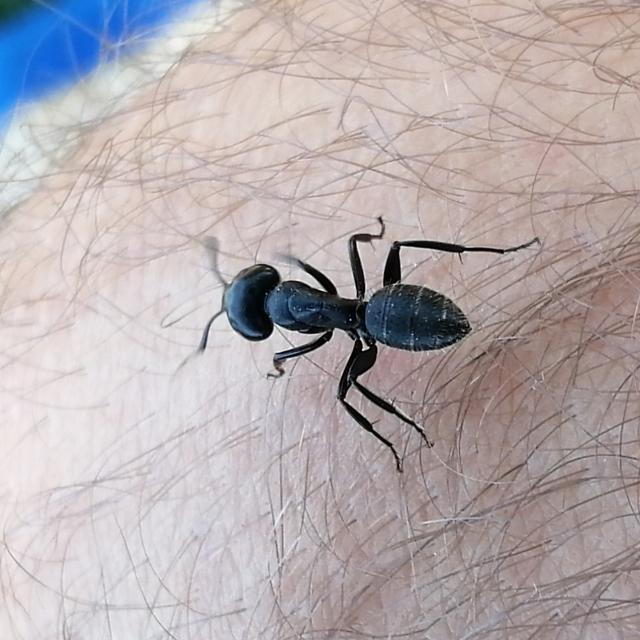Camponotus: (161, 208, 495, 380)
